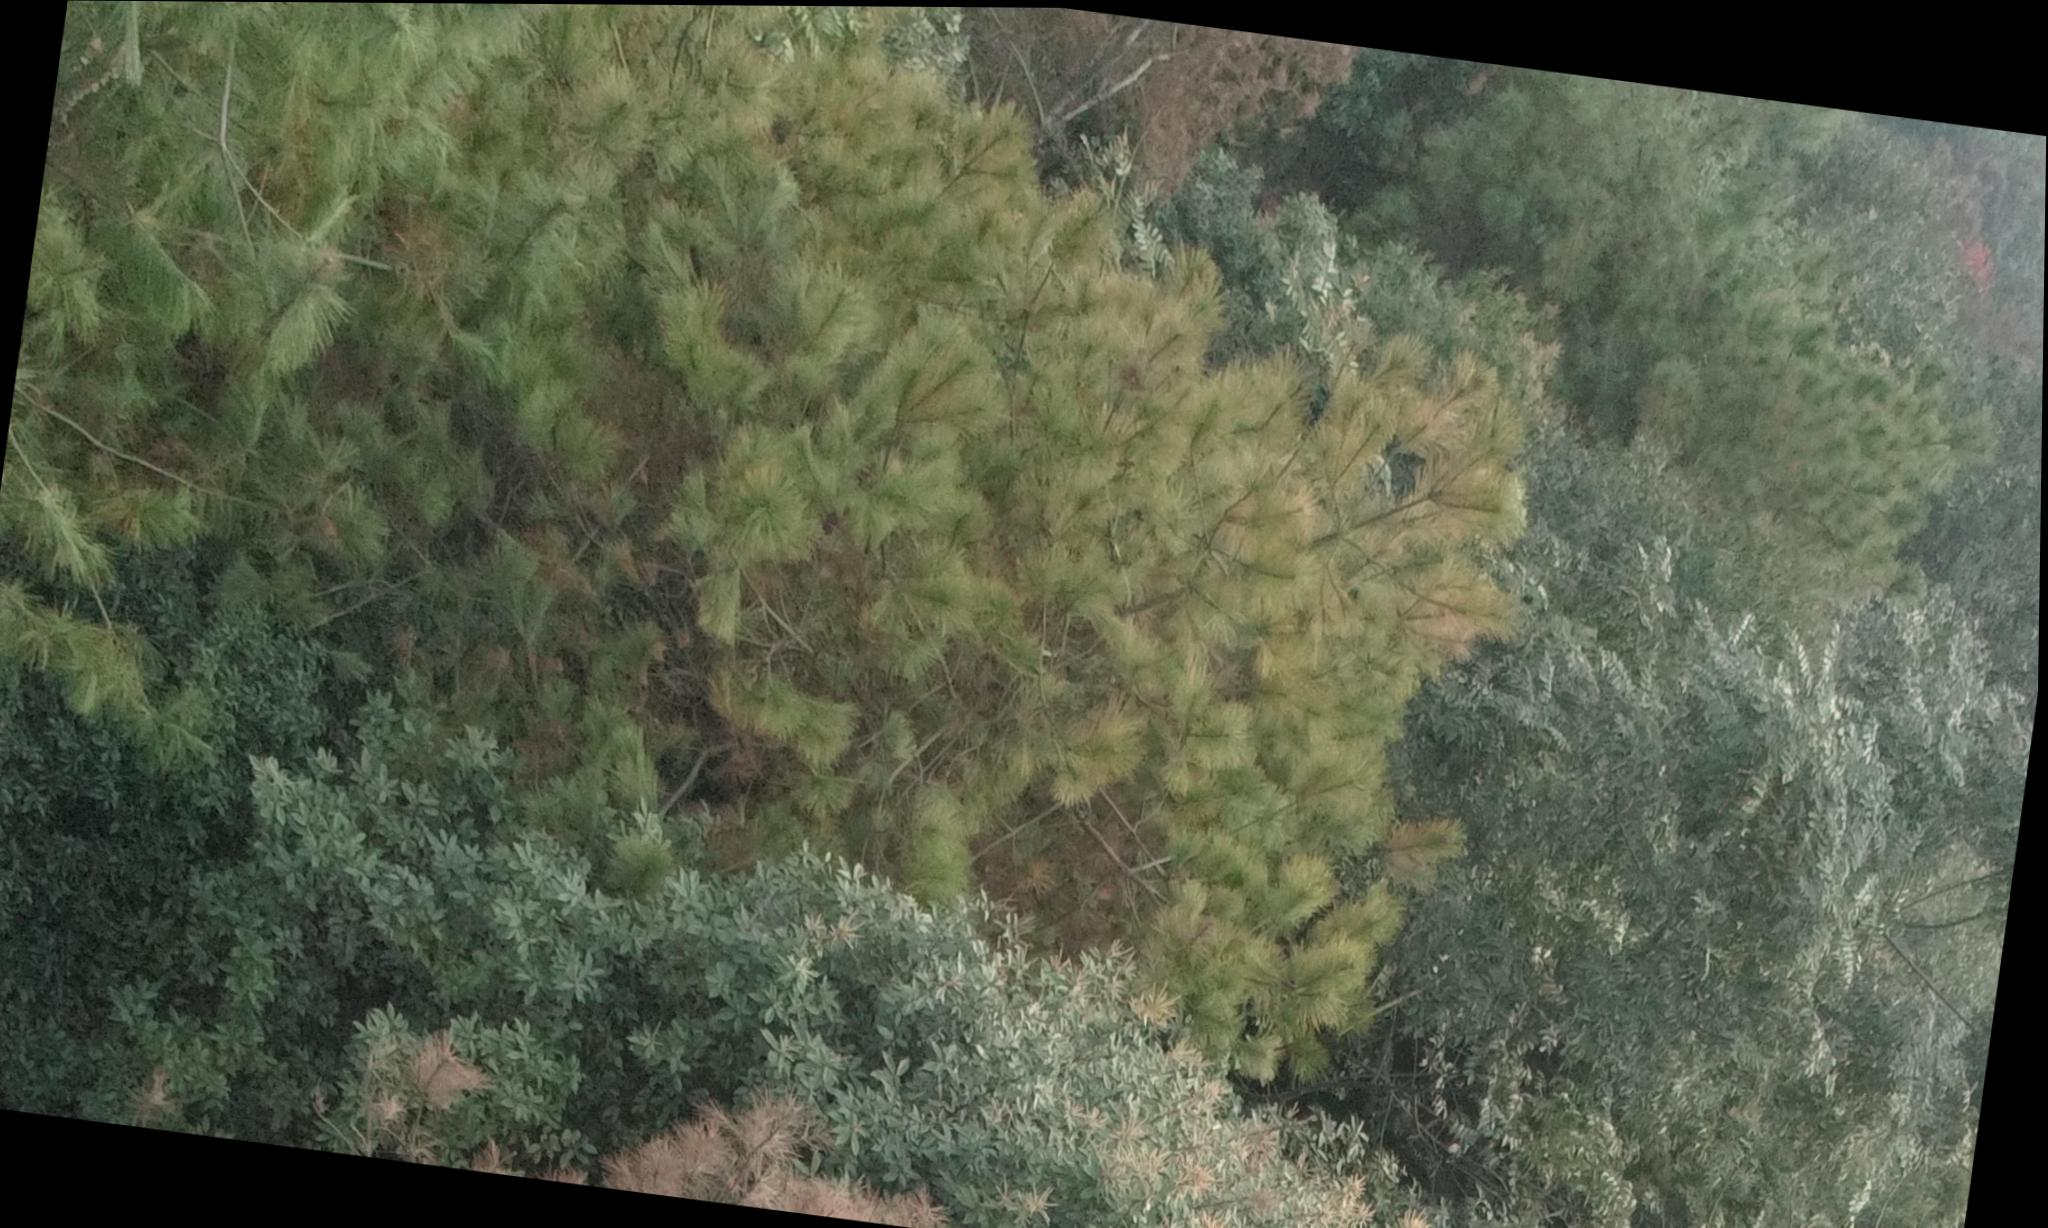light: (557, 45, 1517, 1079)
